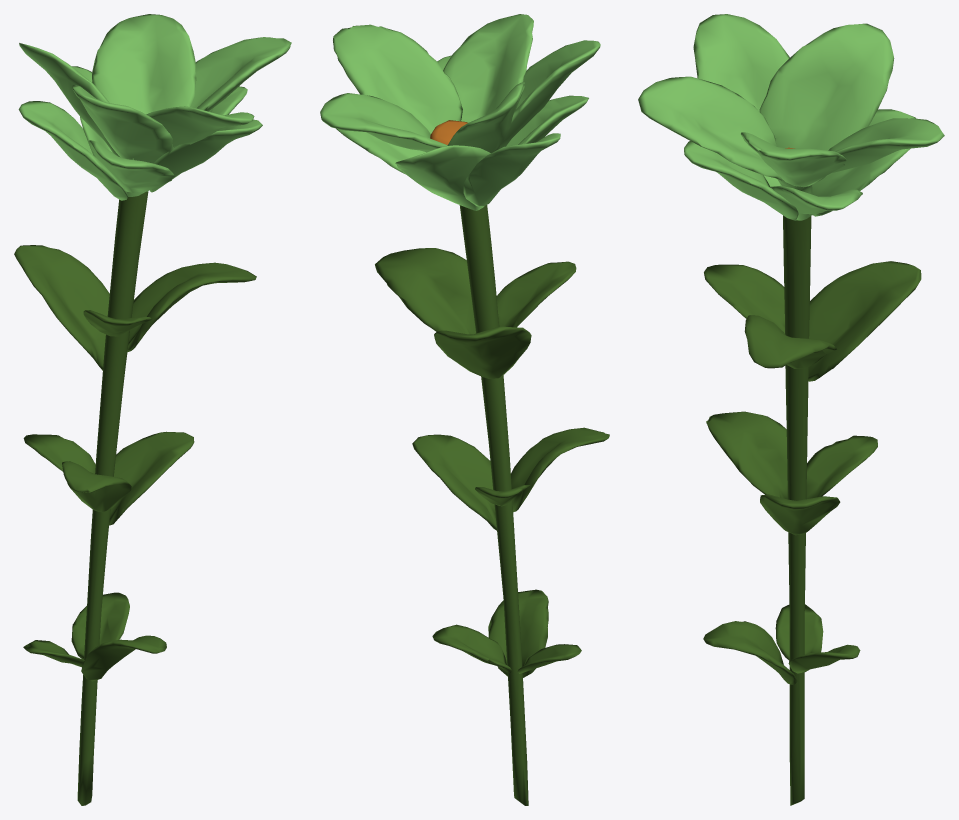
File: kwiatek_zielony.fbx
3 renders of one model, left to right at view 1: azimuth 30°, elevation 25°; view 2: azimuth 150°, elevation 25°; view 3: azimuth 270°, elevation 25°, orthographic. The views are drawn at different scales.
Visible parts, largest first — view 1: Merged_PM3D_Sphere3D2_9.001; view 2: Merged_PM3D_Sphere3D2_9.001; view 3: Merged_PM3D_Sphere3D2_9.001.
Boxes of the visible parts, x1=… form: Merged_PM3D_Sphere3D2_9.001: x1=14, y1=14, x2=291, y2=805; Merged_PM3D_Sphere3D2_9.001: x1=320, y1=14, x2=609, y2=805; Merged_PM3D_Sphere3D2_9.001: x1=638, y1=14, x2=944, y2=805.
Bounding box in the file's own units: 70.32 × 197 × 70.88.
